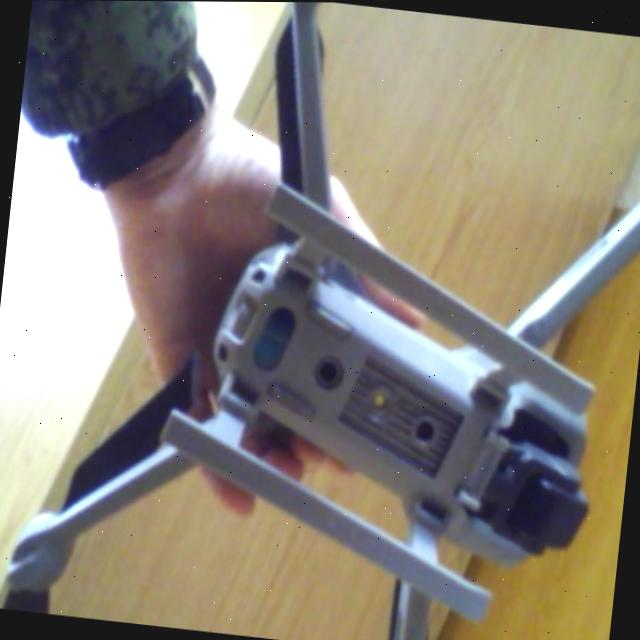drone: (17, 0, 640, 640)
